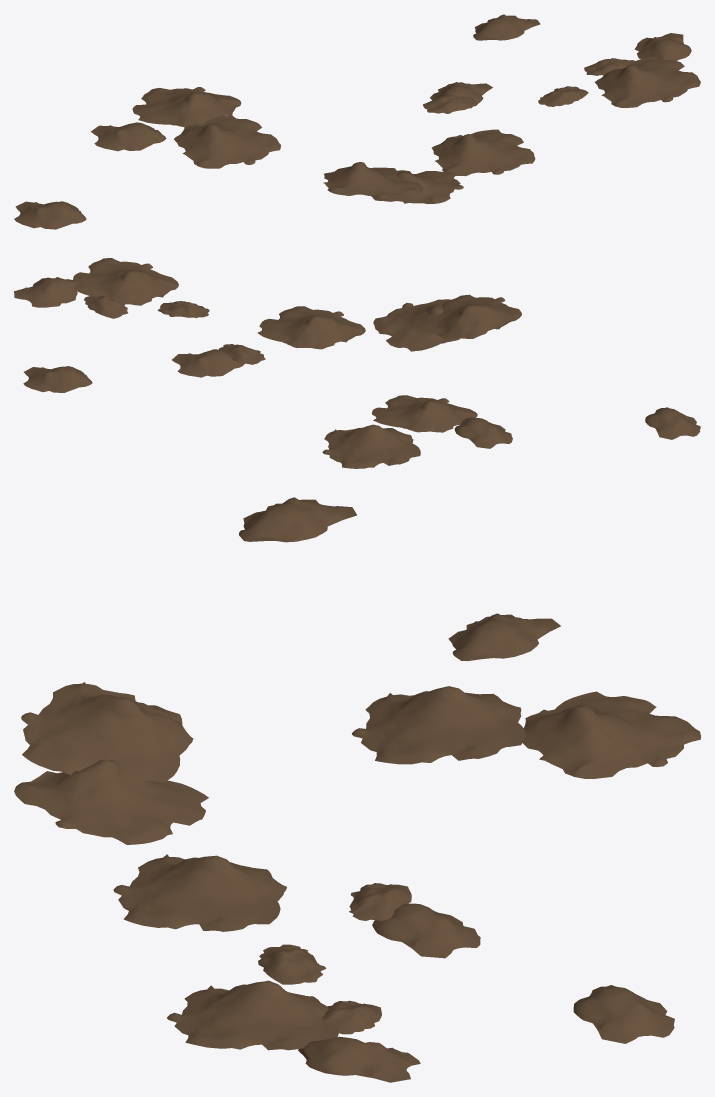
File: Outside_GroundPiles_3D.fbx
3 renders of one model, top to bottom at view 1: azimuth 30°, elevation 25°; view 2: azimuth 150°, elevation 25°; view 3: azimuth 270°, elevation 25°, orthographic. The views are drawn at different scales.
Visible parts, largest first — view 1: ground pile big.003, ground pile big.001, ground pile big.006, ground pile big.004, ground pile big.007, ground pile big, ground pile medium.003, ground pile medium.004, ground pile medium.001, ground pile medium, ground pile medium.002, ground pile small.002 (+2 smaller); view 2: ground pile big.001, ground pile big.004, ground pile big.006, ground pile big.007, ground pile big.003, ground pile big, ground pile medium.001, ground pile medium, ground pile medium.002, ground pile medium.004, ground pile medium.003, ground pile small (+2 smaller); view 3: ground pile big.007, ground pile big.004, ground pile big.006, ground pile big.003, ground pile big, ground pile big.001, ground pile medium.001, ground pile medium, ground pile medium.002, ground pile medium.003, ground pile medium.004, ground pile small.001 (+2 smaller).
Boxes of the visible parts, bbox=[...] form: ground pile big.003: bbox=[174, 114, 280, 168]; ground pile big.001: bbox=[594, 56, 700, 107]; ground pile big.006: bbox=[432, 129, 535, 176]; ground pile big.004: bbox=[132, 87, 241, 127]; ground pile big.007: bbox=[323, 162, 423, 198]; ground pile big: bbox=[370, 170, 463, 203]; ground pile medium.003: bbox=[91, 122, 166, 151]; ground pile medium.004: bbox=[14, 201, 86, 229]; ground pile medium.001: bbox=[473, 14, 540, 40]; ground pile medium: bbox=[634, 33, 691, 60]; ground pile medium.002: bbox=[430, 82, 492, 102]; ground pile small.002: bbox=[423, 95, 478, 113]; ground pile big.001: bbox=[73, 258, 178, 305]; ground pile big.004: bbox=[322, 424, 420, 468]; ground pile big.006: bbox=[257, 306, 365, 349]; ground pile big.007: bbox=[414, 294, 521, 339]; ground pile big.003: bbox=[372, 395, 477, 432]; ground pile big: bbox=[373, 299, 459, 351]; ground pile medium.001: bbox=[23, 366, 92, 392]; ground pile medium: bbox=[14, 277, 77, 307]; ground pile medium.002: bbox=[172, 349, 244, 377]; ground pile medium.004: bbox=[645, 407, 700, 439]; ground pile medium.003: bbox=[454, 417, 512, 448]; ground pile small: bbox=[84, 295, 127, 318]; ground pile big.007: bbox=[21, 682, 193, 785]; ground pile big.004: bbox=[522, 691, 700, 778]; ground pile big.006: bbox=[113, 854, 286, 931]; ground pile big.003: bbox=[352, 686, 525, 764]; ground pile big: bbox=[14, 759, 208, 844]; ground pile big.001: bbox=[167, 980, 338, 1050]; ground pile medium.001: bbox=[573, 985, 674, 1043]; ground pile medium: bbox=[298, 1036, 420, 1082]; ground pile medium.002: bbox=[372, 903, 480, 958]; ground pile medium.003: bbox=[448, 613, 560, 661]; ground pile medium.004: bbox=[239, 497, 356, 542]; ground pile small.001: bbox=[258, 944, 326, 984].
Size of the model in its own units: 2030 by 126 by 1010.
